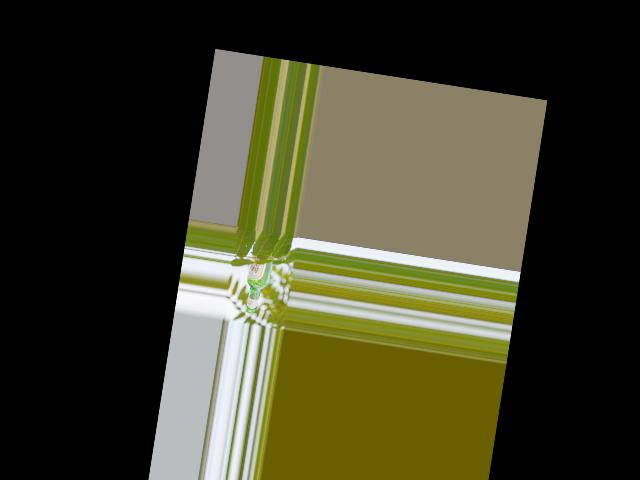beer: (241, 253, 273, 315)
